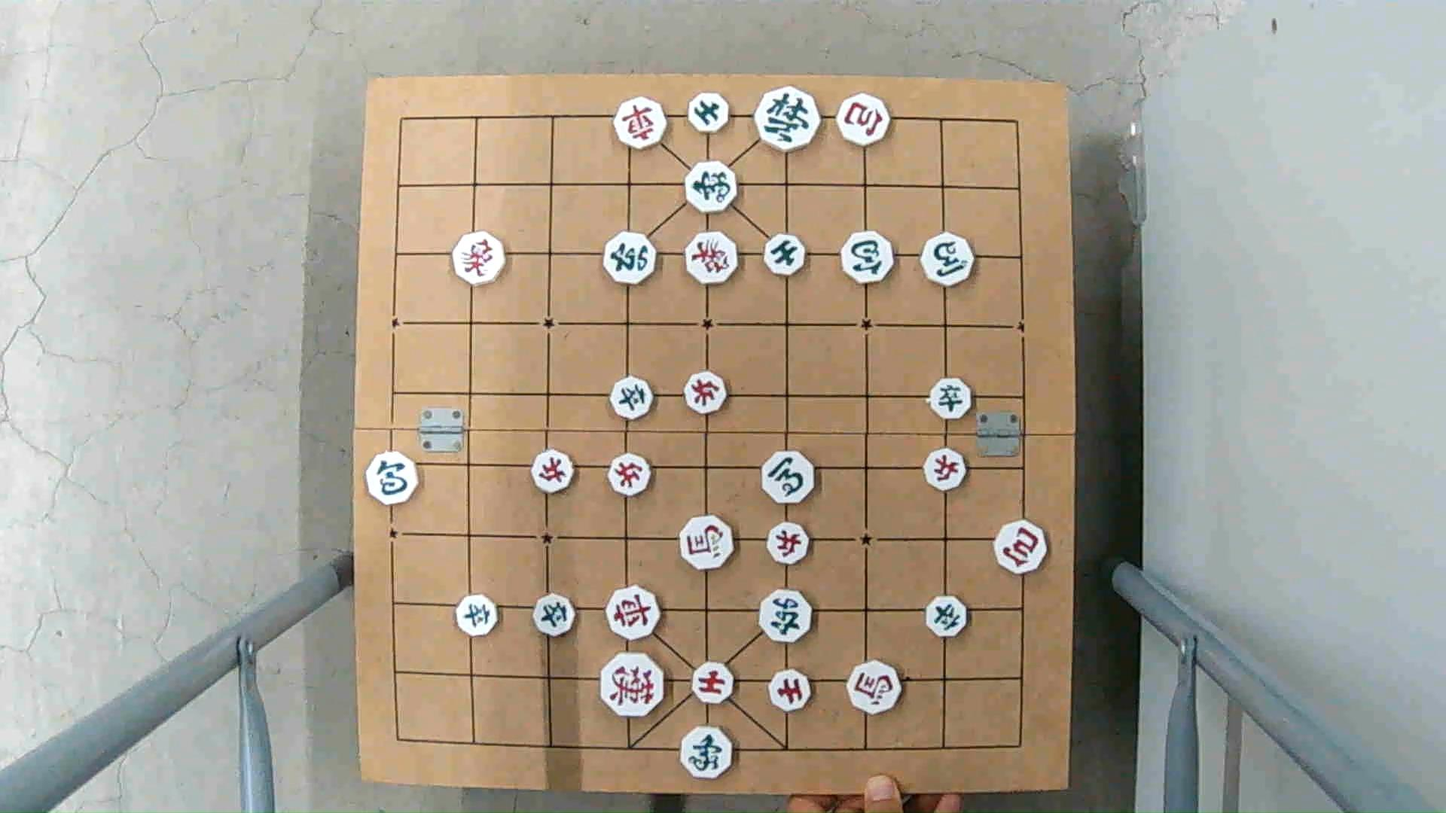cha_green: (602, 232, 662, 284), (755, 592, 815, 641)
cha_red: (603, 590, 662, 637), (612, 101, 670, 147)
jol_green: (534, 592, 578, 637), (609, 377, 655, 419), (923, 599, 972, 635), (929, 381, 975, 419), (454, 595, 497, 635)
jol_red: (766, 525, 815, 564), (684, 375, 732, 414), (606, 457, 655, 495), (920, 451, 969, 488), (531, 452, 579, 489)
ma_green: (758, 455, 819, 504), (919, 237, 975, 285)
ma_red: (678, 516, 733, 572), (846, 662, 903, 711)
po_green: (839, 230, 898, 285), (361, 455, 421, 504)
po_red: (834, 96, 895, 142), (992, 525, 1050, 572)
sa_green: (757, 235, 807, 273), (684, 93, 731, 133)
sa_red: (688, 661, 738, 705), (767, 671, 814, 709)
sang_green: (685, 163, 738, 213), (679, 731, 735, 776)
sang_red: (449, 230, 505, 285), (684, 234, 742, 283)
wang_green: (755, 90, 822, 147)
wang_red: (597, 656, 668, 719)
